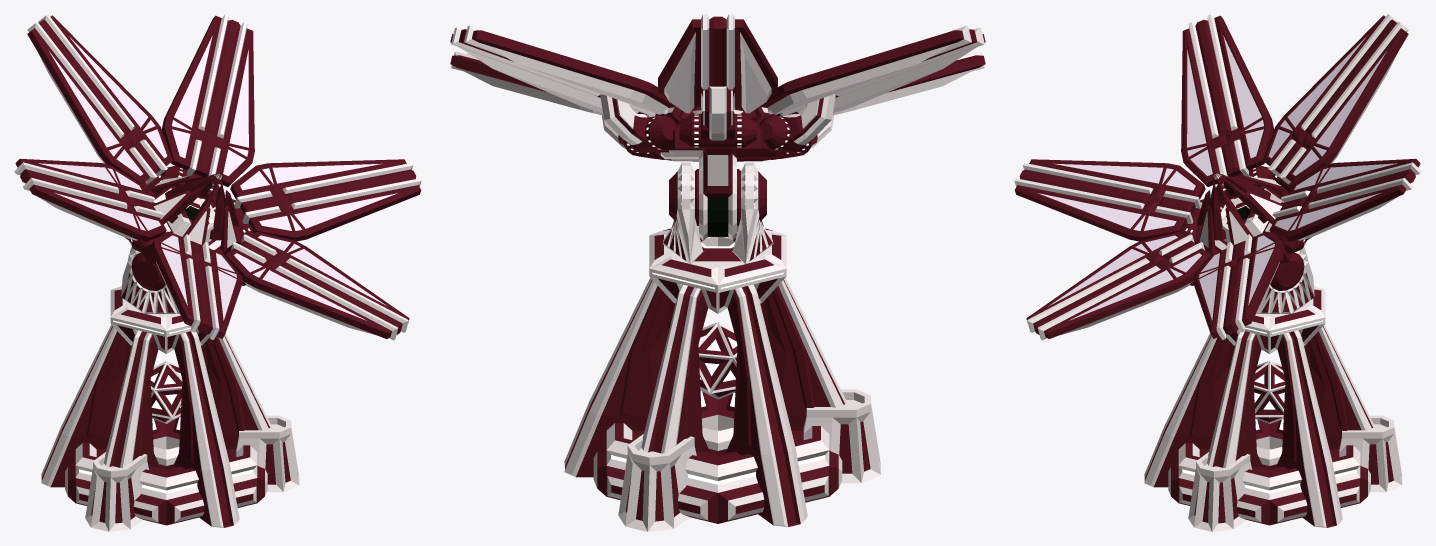
File: antenne-longue-portee.glb
3 renders of one model, left to right at view 1: azimuth 30°, elevation 25°; view 2: azimuth 150°, elevation 25°; view 3: azimuth 270°, elevation 25°, orthographic. The views are drawn at different scales.
Visible parts, largest first — view 1: SatelliteDish_Pillars, SatelliteDish_Foundation, SatelliteDish_DishPart_3, SatelliteDish_DishPart_2, SatelliteDish_DishPart_4, SatelliteDish_DishPart_1, SatelliteDish_DishPart_5, SatelliteDish_DishPart_6, SatelliteDish_Head, SatelliteDish_NeckFoundation, SatelliteDish_LowerNeck, MediumPowerNode_Isosphere.001; view 2: SatelliteDish_Pillars, SatelliteDish_Foundation, SatelliteDish_DishPart_4, SatelliteDish_DishPart_3, SatelliteDish_DishPart_5, SatelliteDish_LowerNeck, SatelliteDish_NeckFoundation, SatelliteDish_Head, SatelliteDish_UpperNeck, MediumPowerNode_Isosphere.001, SatelliteDish_DishPart_2, SatelliteDish_DishPart_6; view 3: SatelliteDish_Pillars, SatelliteDish_Foundation, SatelliteDish_DishPart_5, SatelliteDish_DishPart_6, SatelliteDish_DishPart_4, SatelliteDish_DishPart_1, SatelliteDish_DishPart_3, SatelliteDish_DishPart_2, SatelliteDish_Head, SatelliteDish_NeckFoundation, SatelliteDish_LowerNeck, MediumPowerNode_Isosphere.001.
Part boxes in pixels (bbox=[...]): SatelliteDish_Pillars: bbox=[41, 325, 271, 527]; SatelliteDish_Foundation: bbox=[65, 415, 299, 531]; SatelliteDish_DishPart_3: bbox=[161, 14, 254, 186]; SatelliteDish_DishPart_2: bbox=[230, 159, 421, 241]; SatelliteDish_DishPart_4: bbox=[27, 14, 172, 192]; SatelliteDish_DishPart_1: bbox=[225, 231, 409, 340]; SatelliteDish_DishPart_5: bbox=[14, 158, 166, 241]; SatelliteDish_DishPart_6: bbox=[151, 231, 242, 340]; SatelliteDish_Head: bbox=[129, 165, 254, 270]; SatelliteDish_NeckFoundation: bbox=[110, 286, 209, 353]; SatelliteDish_LowerNeck: bbox=[121, 249, 179, 313]; MediumPowerNode_Isosphere.001: bbox=[150, 361, 182, 423]; SatelliteDish_Pillars: bbox=[564, 278, 846, 526]; SatelliteDish_Foundation: bbox=[593, 389, 880, 531]; SatelliteDish_DishPart_4: bbox=[658, 14, 777, 147]; SatelliteDish_DishPart_3: bbox=[450, 25, 676, 152]; SatelliteDish_DishPart_5: bbox=[759, 25, 985, 152]; SatelliteDish_LowerNeck: bbox=[662, 162, 773, 264]; SatelliteDish_NeckFoundation: bbox=[649, 228, 786, 313]; SatelliteDish_Head: bbox=[623, 106, 812, 161]; SatelliteDish_UpperNeck: bbox=[699, 148, 736, 240]; MediumPowerNode_Isosphere.001: bbox=[698, 322, 737, 399]; SatelliteDish_DishPart_2: bbox=[450, 51, 662, 159]; SatelliteDish_DishPart_6: bbox=[773, 51, 985, 159]; SatelliteDish_Pillars: bbox=[1144, 325, 1374, 527]; SatelliteDish_Foundation: bbox=[1168, 415, 1402, 531]; SatelliteDish_DishPart_5: bbox=[1181, 14, 1274, 186]; SatelliteDish_DishPart_6: bbox=[1014, 159, 1205, 241]; SatelliteDish_DishPart_4: bbox=[1263, 14, 1408, 192]; SatelliteDish_DishPart_1: bbox=[1026, 231, 1210, 340]; SatelliteDish_DishPart_3: bbox=[1269, 158, 1421, 241]; SatelliteDish_DishPart_2: bbox=[1193, 231, 1284, 340]; SatelliteDish_Head: bbox=[1181, 165, 1306, 270]; SatelliteDish_NeckFoundation: bbox=[1226, 286, 1325, 353]; SatelliteDish_LowerNeck: bbox=[1256, 249, 1314, 313]; MediumPowerNode_Isosphere.001: bbox=[1253, 360, 1285, 423].
Size of the model in its own units: 6770 by 6819 by 5824.
1 material, 1 textured.
